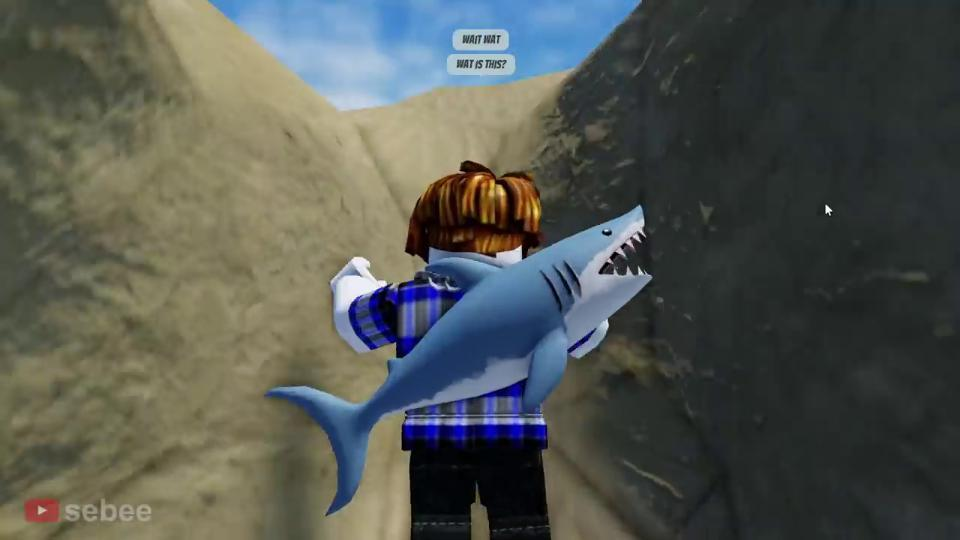Character: (330, 161, 550, 539)
